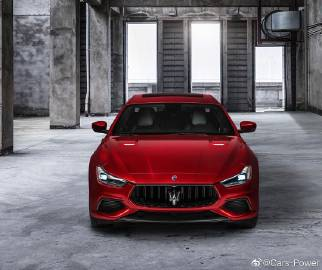other: (89, 92, 265, 236)
